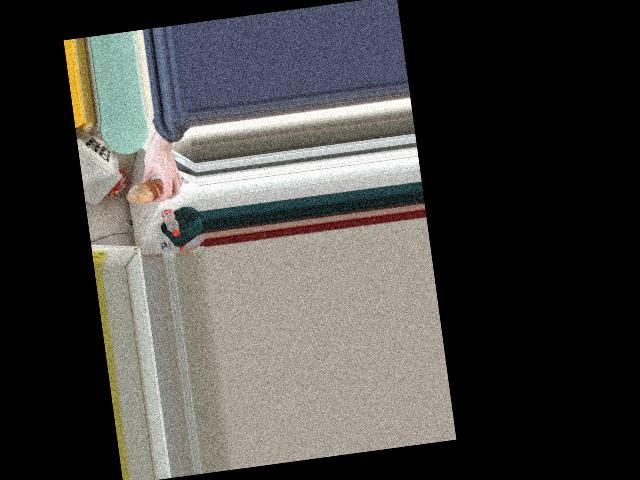sweet_potato: (134, 166, 173, 200)
